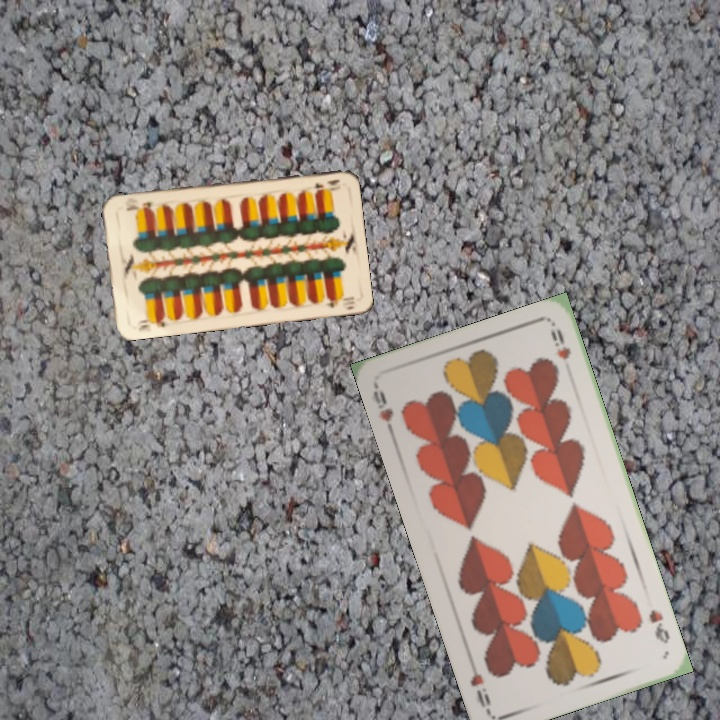E10: (134, 312, 168, 333), (309, 175, 342, 193)
H9: (369, 381, 398, 439), (644, 605, 673, 646)
